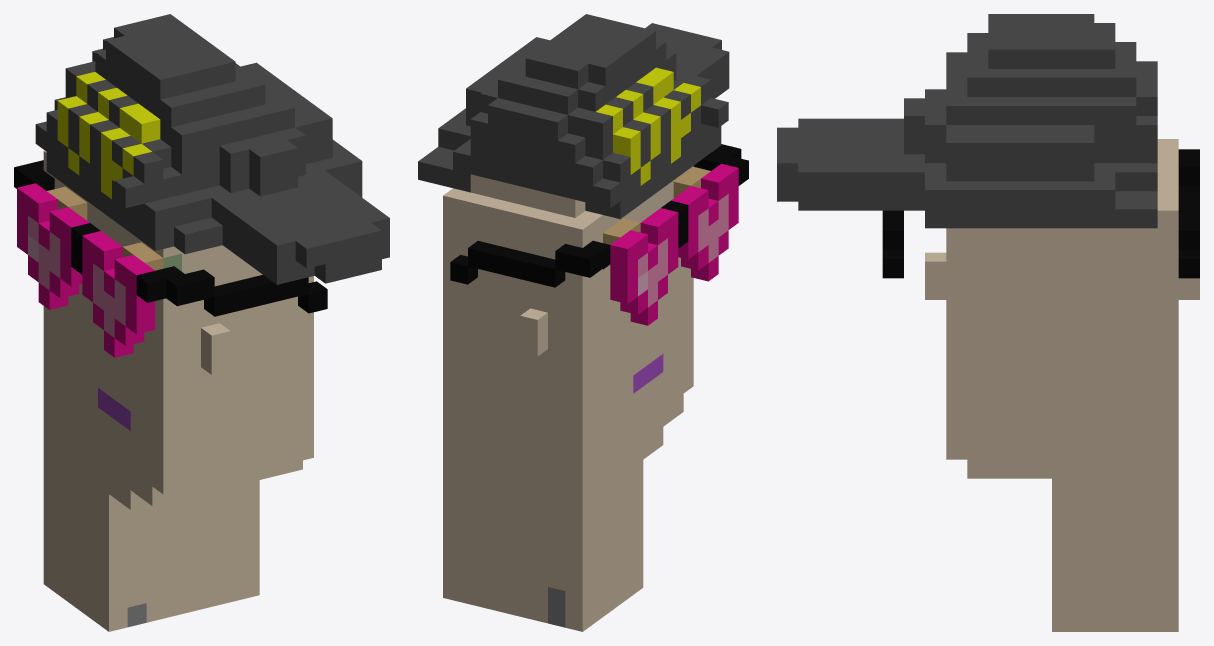
Rendered from female-1013.glb.
3 views of the same model, side by side, from view 1: azimuth 30°, elevation 25°; view 2: azimuth 150°, elevation 25°; view 3: azimuth 270°, elevation 25° (orthographic). The views are drawn at different scales.
Bounding box in the file's own units: 0.4138 × 1 × 0.6897.
